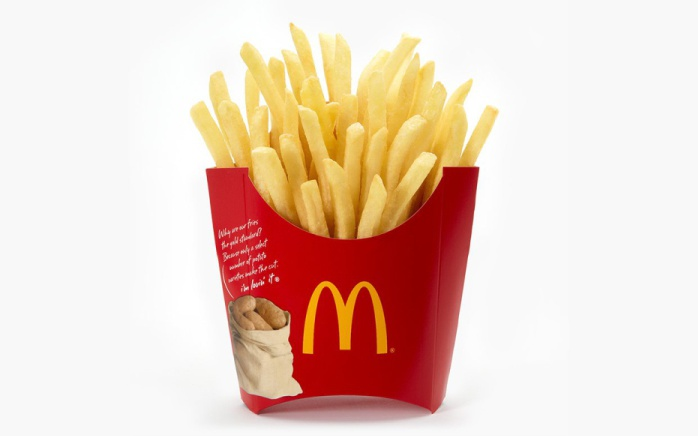mcdonalds: (293, 271, 401, 365)
